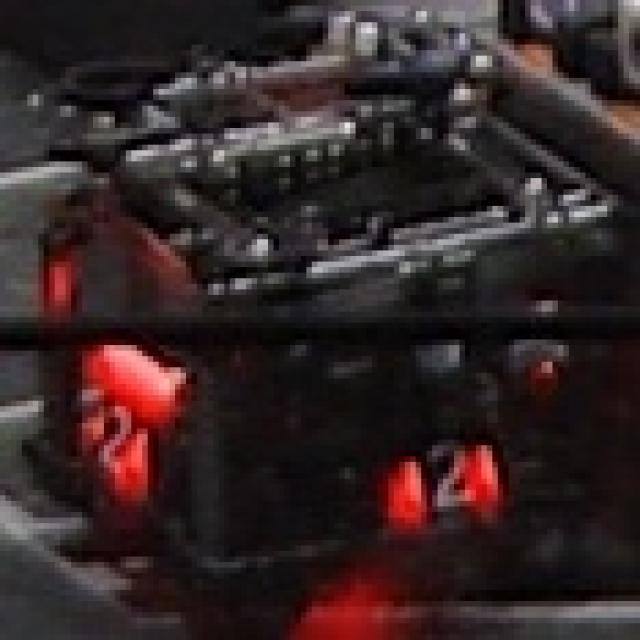R2: (399, 434, 498, 518), (82, 395, 153, 490)
